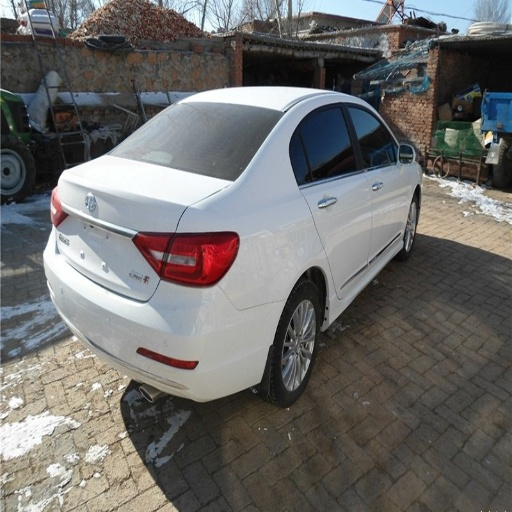back_bumper: (50, 255, 284, 404)
back_left_light: (142, 250, 201, 285)
back_right_door: (291, 101, 370, 297)
back_right_light: (170, 233, 239, 286)
